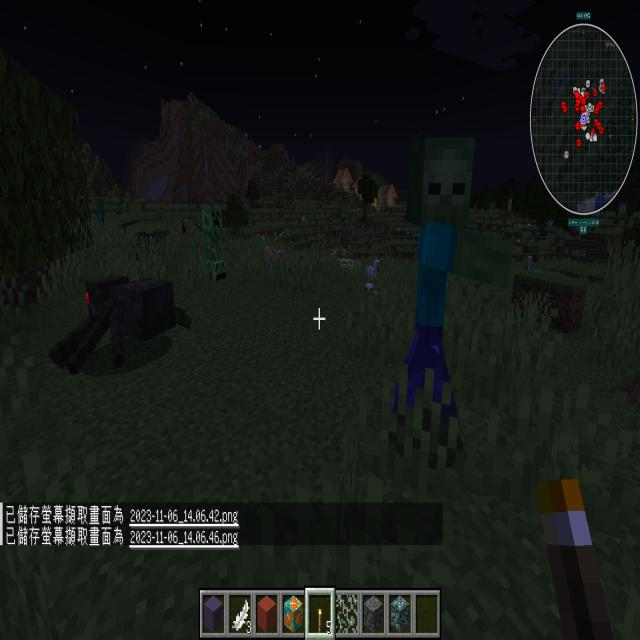Creeper: (199, 198, 231, 291)
Skeleton: (524, 253, 535, 277)
Spider: (41, 255, 204, 394), (128, 226, 176, 269), (80, 194, 90, 208), (114, 210, 124, 220)
Zombie: (377, 113, 528, 453), (91, 192, 107, 238), (116, 200, 123, 211)
chicken: (362, 255, 384, 282), (362, 282, 381, 298)
cow: (377, 232, 387, 250), (362, 222, 372, 234), (365, 239, 373, 252), (392, 240, 398, 256)
pig: (260, 240, 292, 282), (256, 230, 263, 240)
